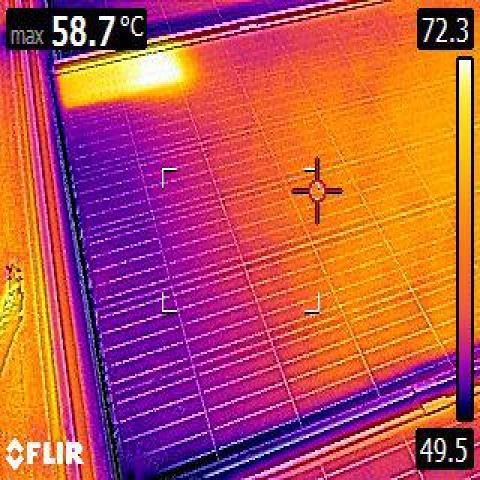fault: (62, 72, 120, 102), (135, 56, 179, 88)
